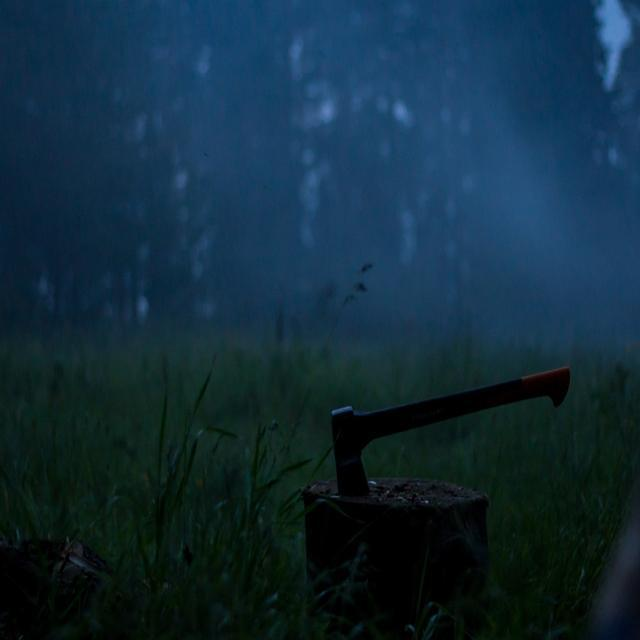Axe: (333, 369, 570, 496)
